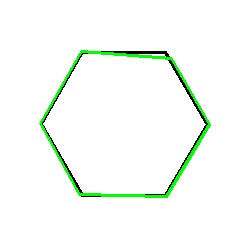line_segment: (40, 50, 210, 198)
